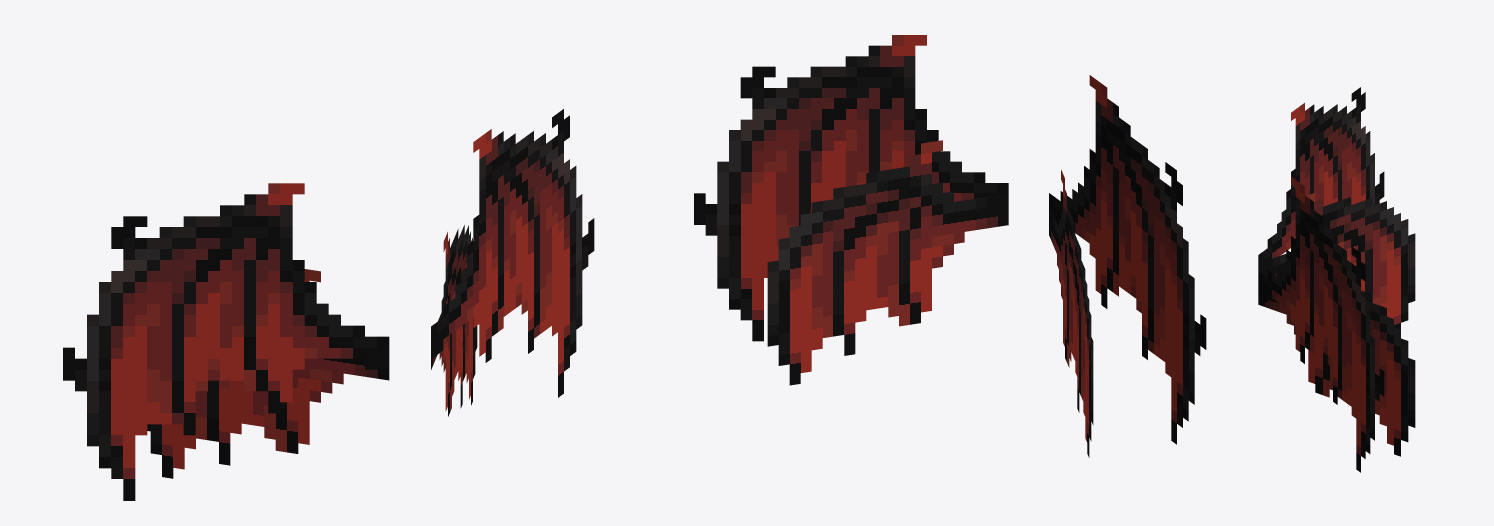
Rendered from sl_double_demonic_wings.glb.
The picture shows the model from 3 angles, left to right: view 1: azimuth 30°, elevation 25°; view 2: azimuth 150°, elevation 25°; view 3: azimuth 270°, elevation 25°; orthographic projection. The views are drawn at different scales.
Visible parts, largest first — view 1: bb_double_demonic_wings; view 2: bb_double_demonic_wings; view 3: bb_double_demonic_wings.
Part boxes in pixels (x1,y1,x2,y2): bb_double_demonic_wings: (63,109,594,500); bb_double_demonic_wings: (694,35,1206,457); bb_double_demonic_wings: (1258,87,1415,472).
Bounding box in the file's own units: 3.61 × 2 × 1.48.
Materials: 1 (1 with a texture image).
